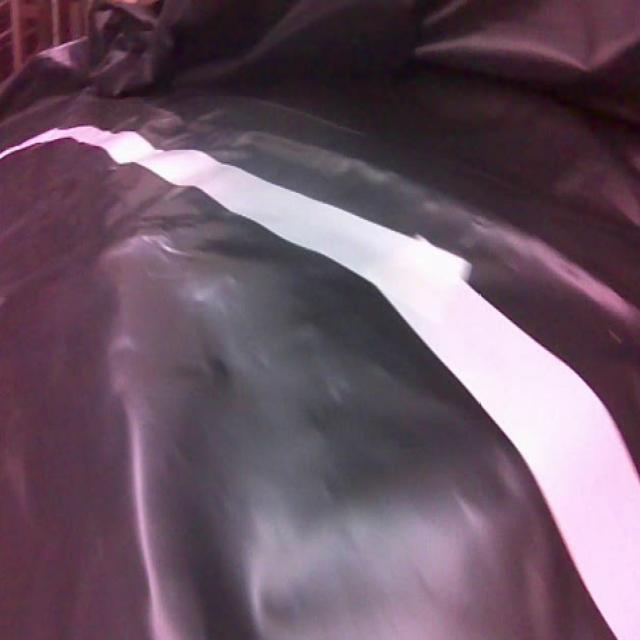LineaCarril: (0, 125, 640, 640)
